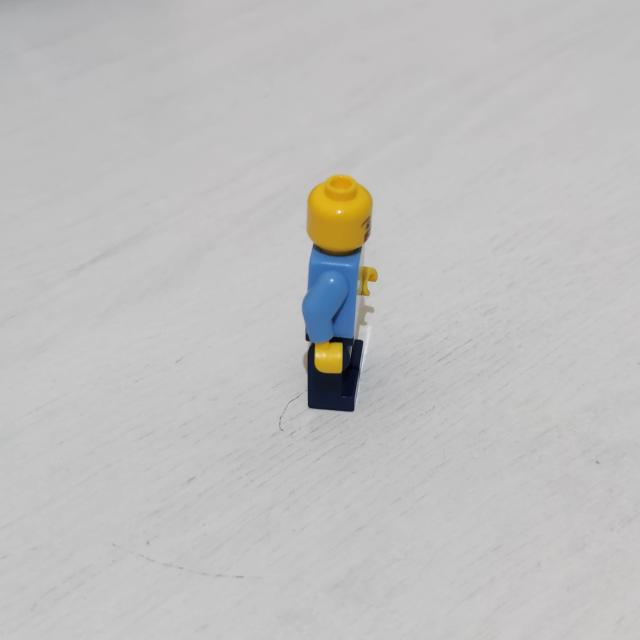lego: (299, 176, 378, 412)
